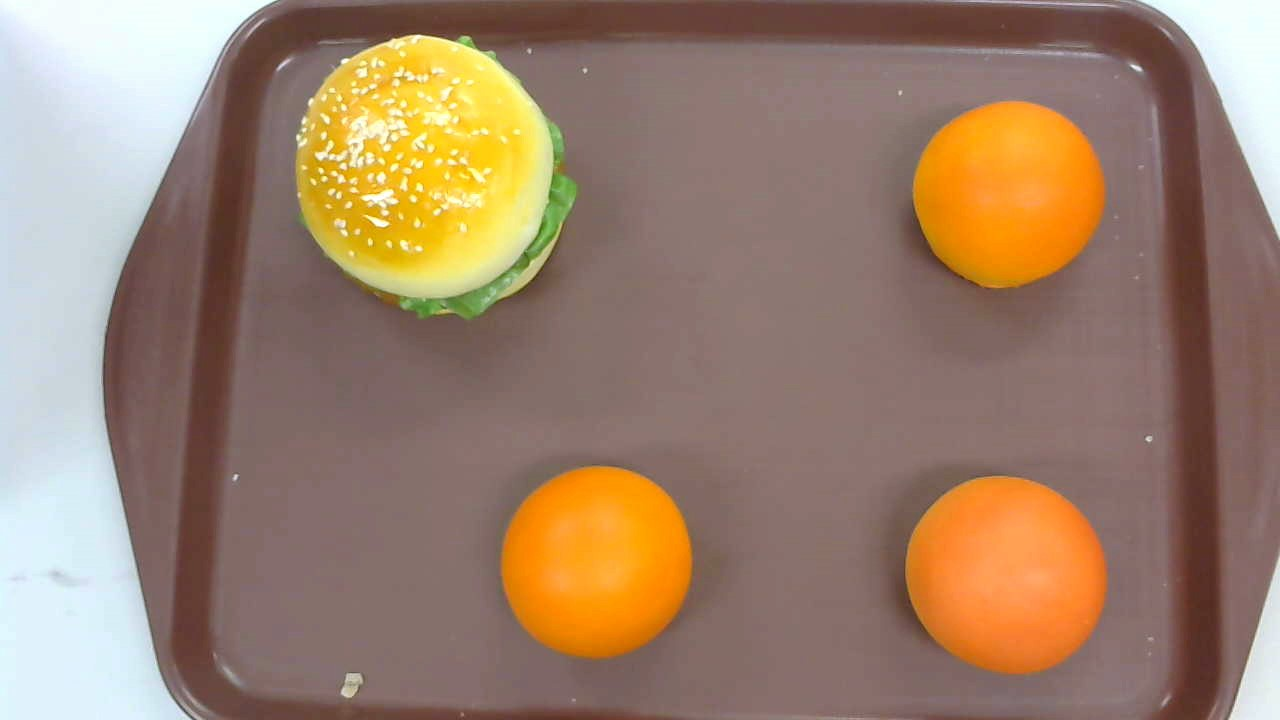bun: (905, 475, 1106, 676), (912, 98, 1106, 291), (500, 465, 692, 660)
hamburger: (293, 33, 578, 322)
